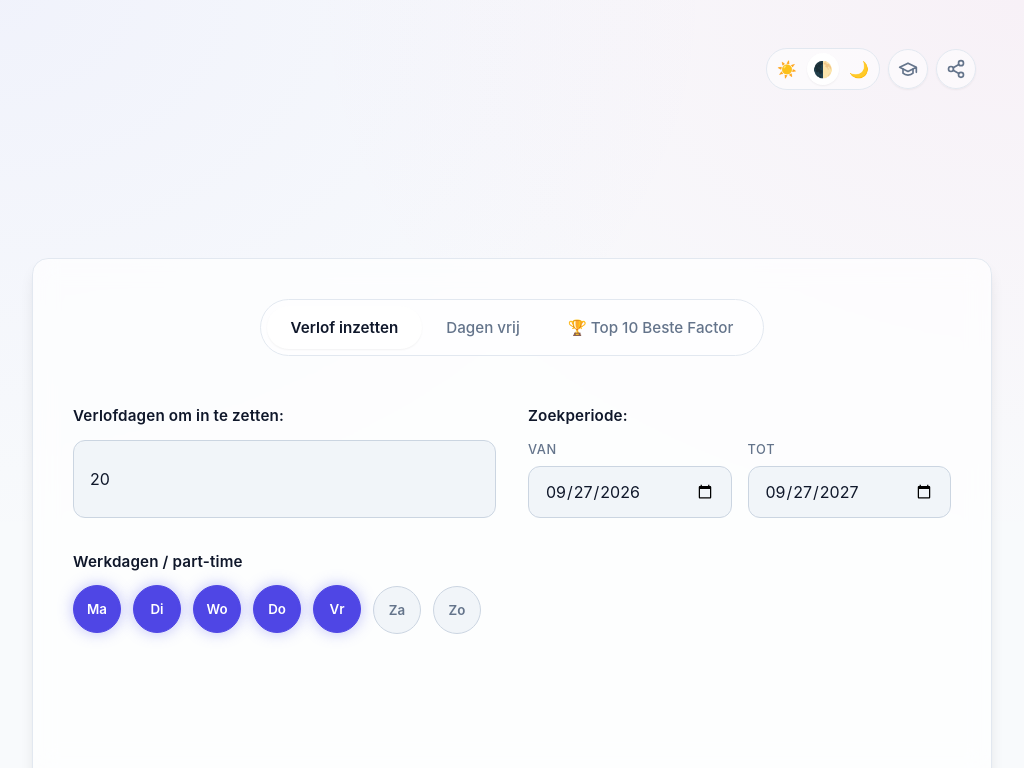
Scenario: App › shows the school holiday overview in the last mode
Click the button titled "Schoolvakanties" at (908, 69), box [888,49,928,89]
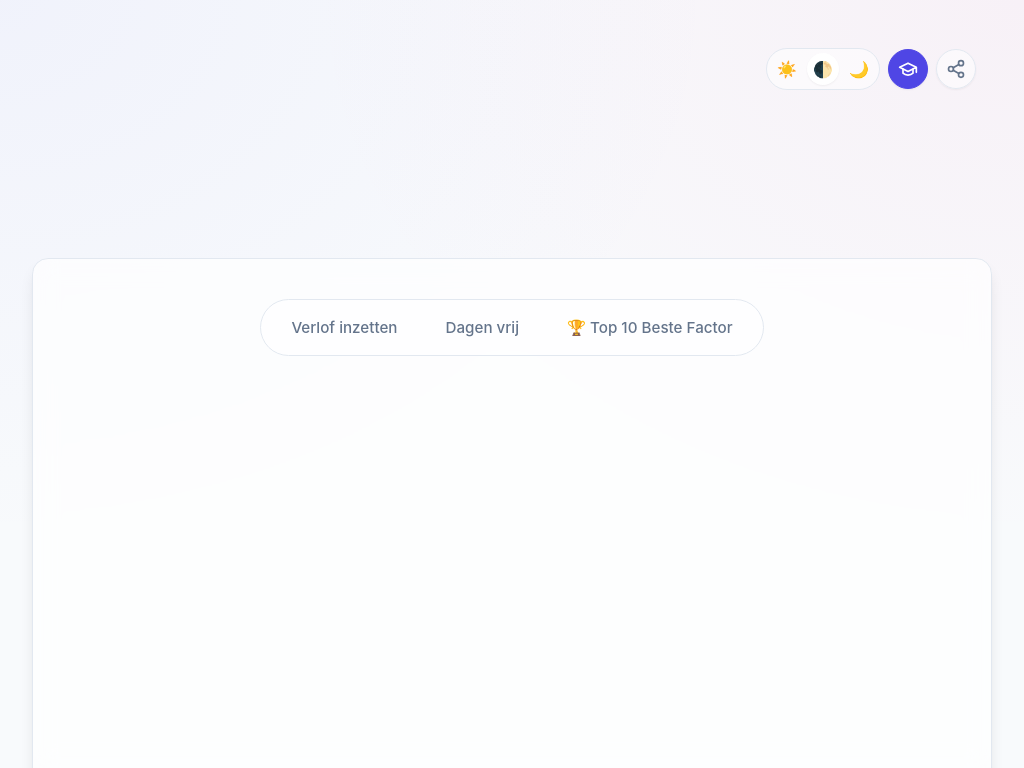
Check: the element with class "input-grid" is gone
Click the button titled "Schoolvakanties" at (908, 69), box [888,49,928,89]
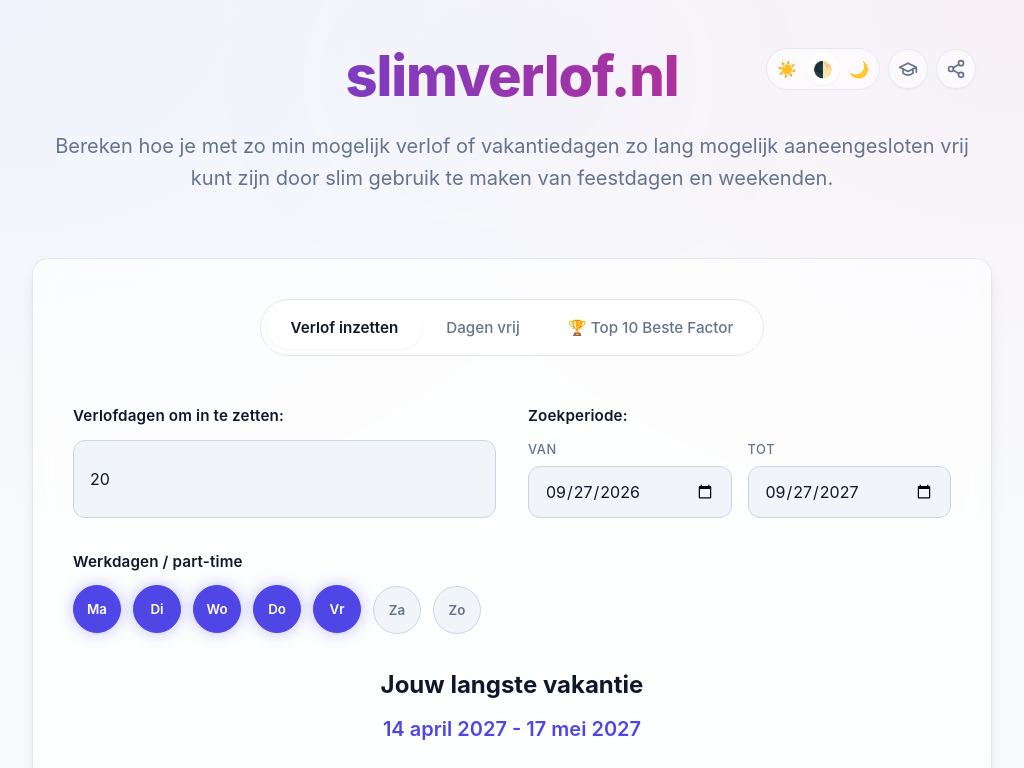
Check: the element with class "input-grid" is shown, box [73,404,951,634]
